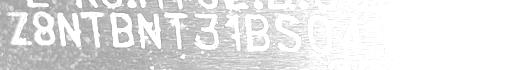letter: (466, 15, 500, 59), (430, 14, 460, 58), (395, 14, 425, 56), (305, 11, 333, 55), (54, 11, 84, 50), (193, 11, 221, 52), (273, 14, 303, 52), (135, 10, 163, 50), (243, 12, 271, 52), (338, 13, 366, 53), (79, 10, 105, 50), (162, 10, 188, 50), (370, 14, 394, 56), (109, 9, 135, 47), (6, 9, 32, 46), (30, 10, 56, 47), (221, 13, 243, 52)
